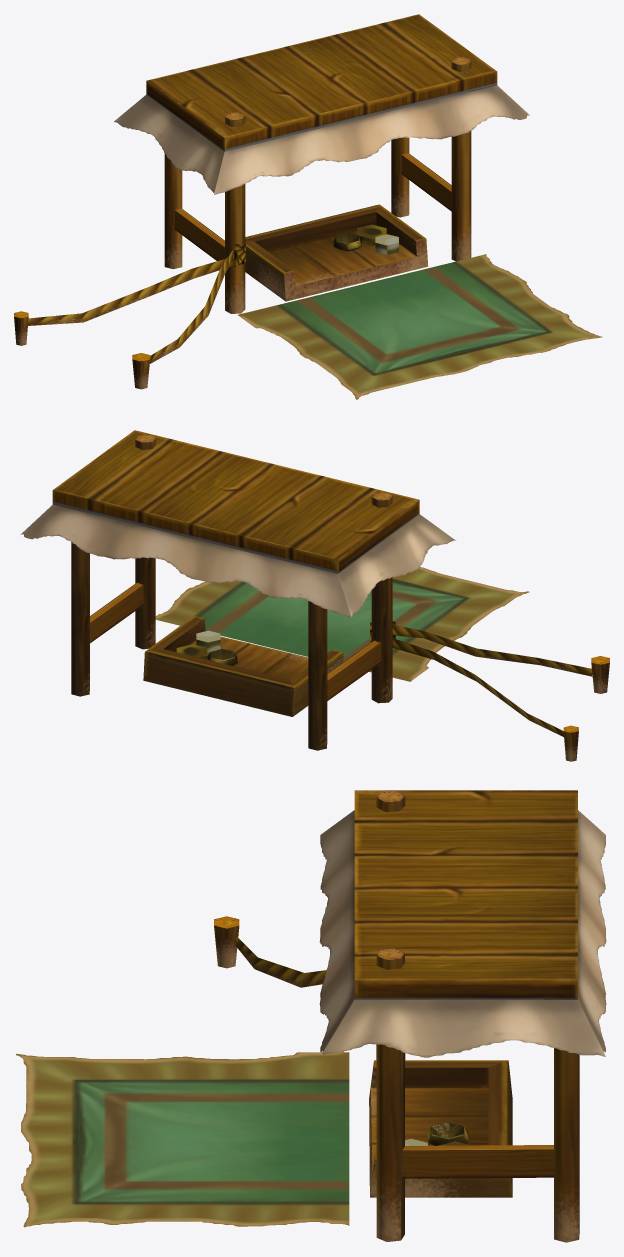
File: tanwei01.FBX
The picture shows the model from 3 angles, top to bottom: view 1: azimuth 30°, elevation 25°; view 2: azimuth 150°, elevation 25°; view 3: azimuth 270°, elevation 25°; orthographic projection. The views are drawn at different scales.
Parts seen in each view (by area): view 1: 对象051; view 2: 对象051; view 3: 对象051.
Part boxes in pixels (<box>): 对象051: <box>14,14,602,399</box>; 对象051: <box>20,430,609,761</box>; 对象051: <box>16,790,606,1242</box>.
Size of the model in its own units: 195 by 76.51 by 147.
